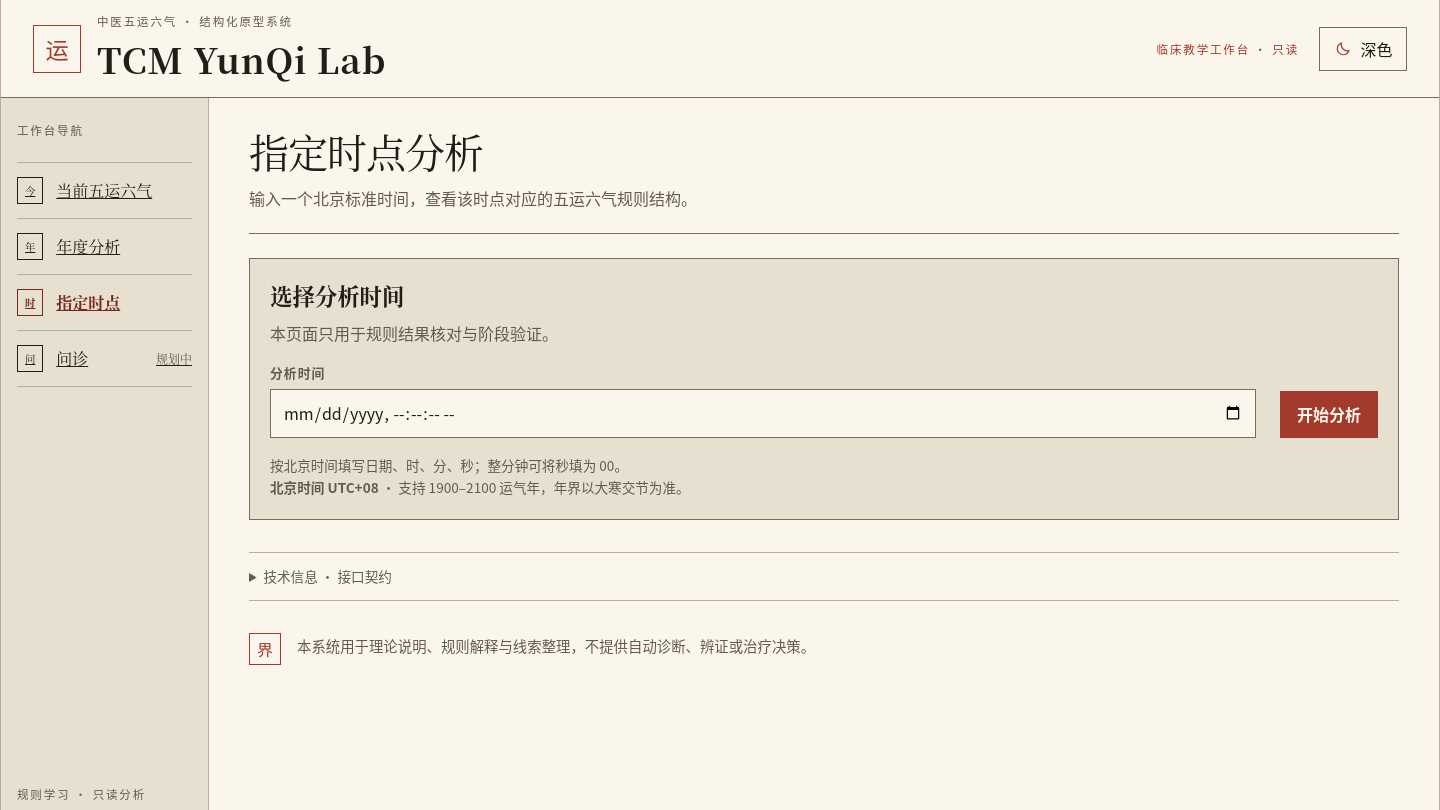
Test case: AppRoutes › shows an accessible error when native validation blocks an empty submit
Click the button "开始分析". click: (1329, 414)
box: [1280, 391, 1378, 438]
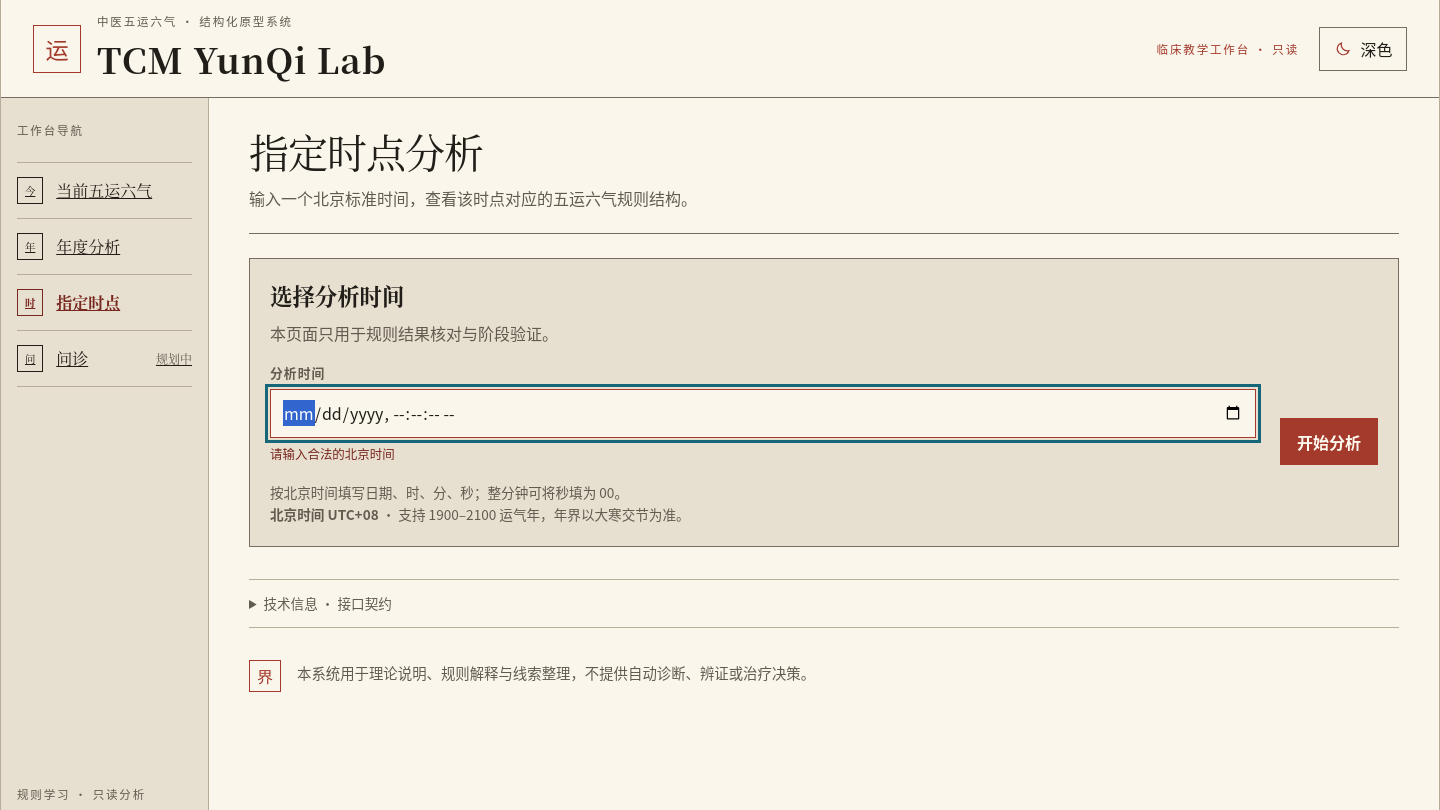
Now the message reads "请输入合法的北京时间", box [270, 445, 395, 463]
